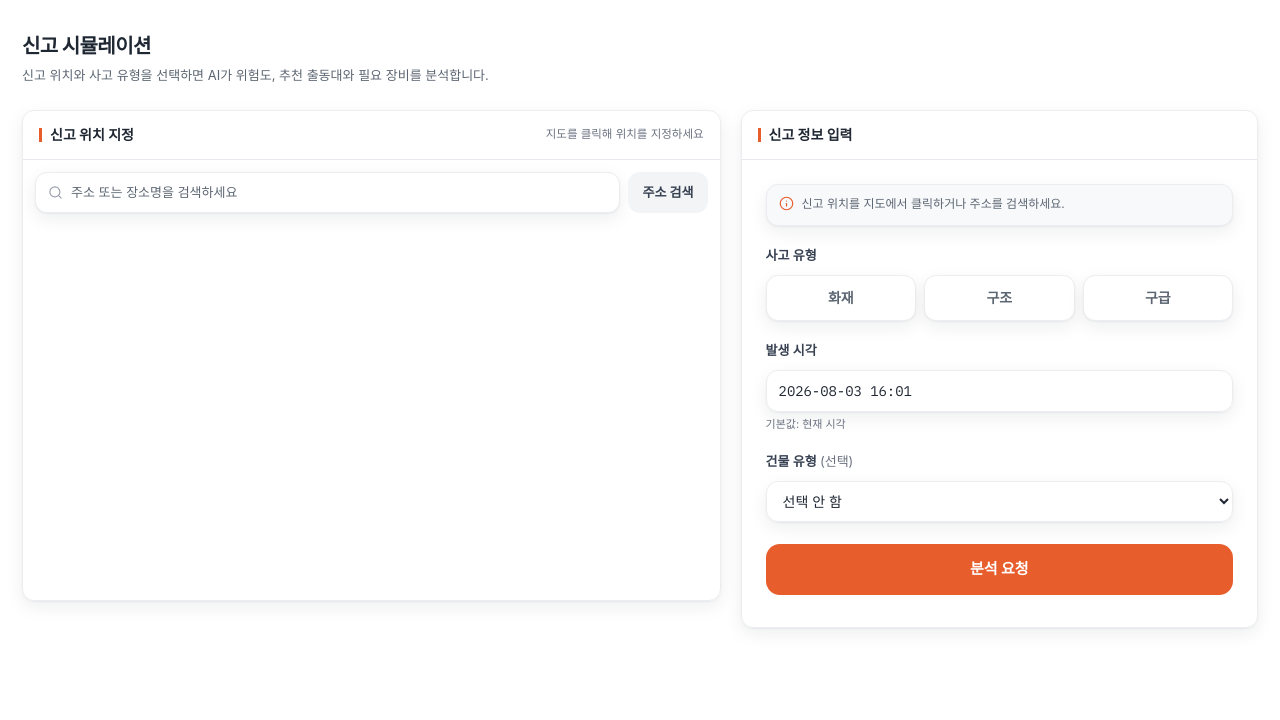
Test: AnalysisNewView › 빈 검색어에는 안내 메시지를 표시한다
Click the button "주소 검색" at [668, 192], box [628,172,708,213]
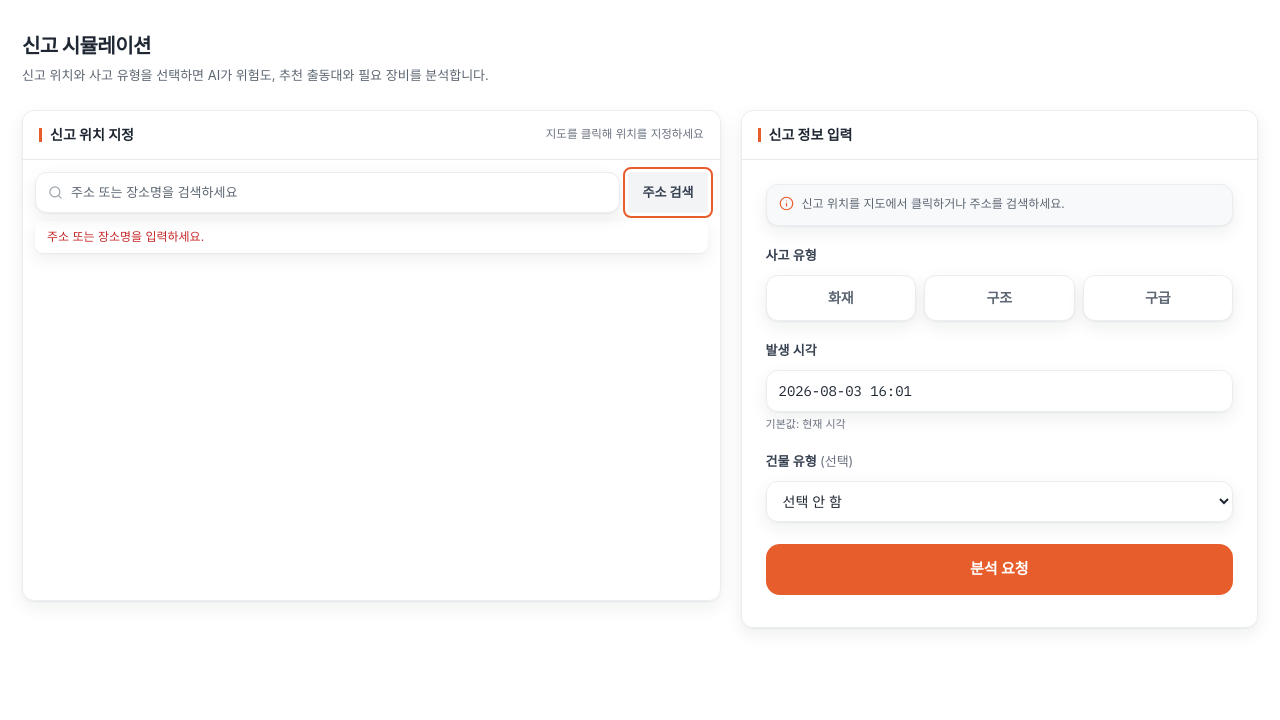
Now the text "주소 또는 장소명을 입력하세요." is shown, box [35,221,708,253]
